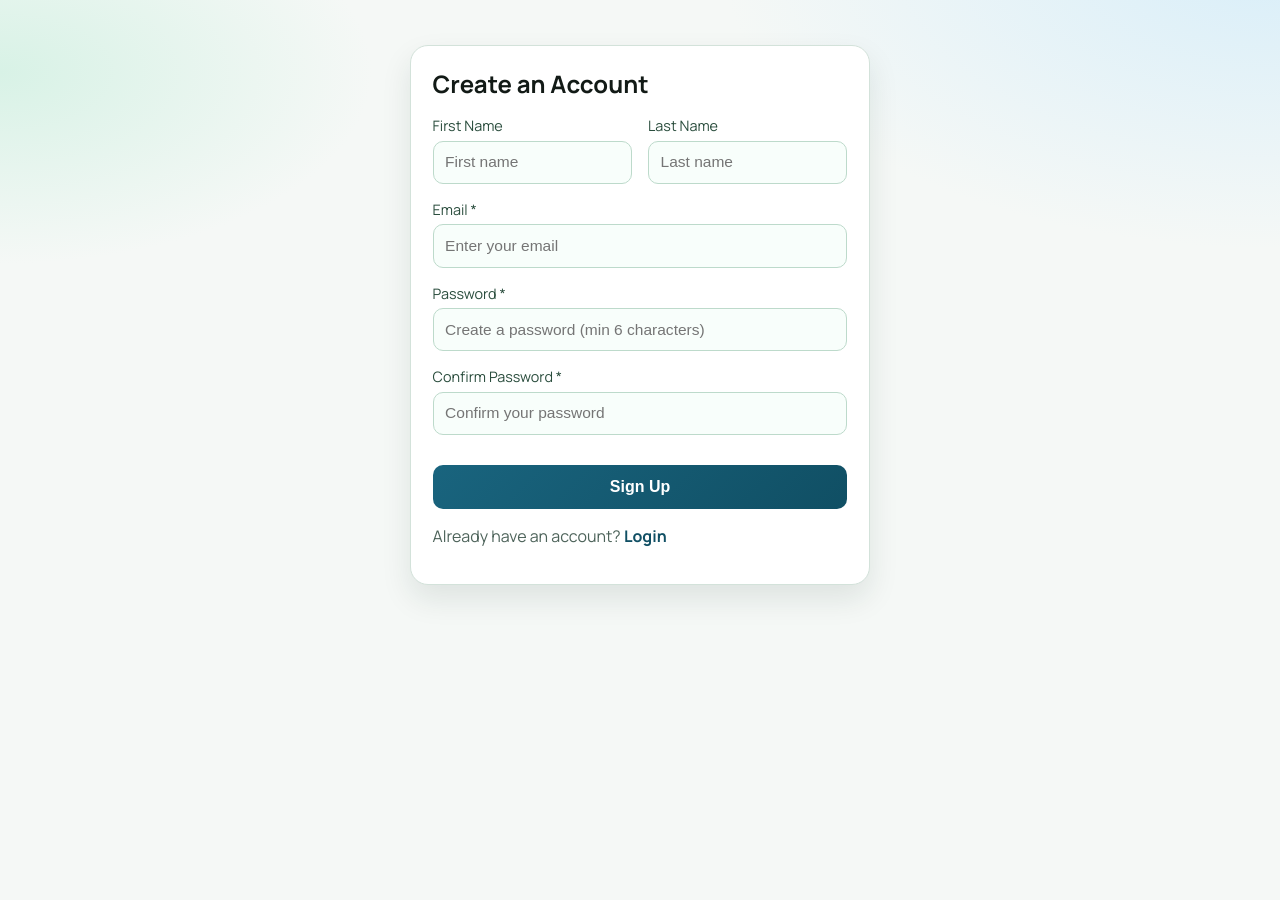
Test: Integration Tests - Signup Flow › should validate password length locally
Type "test@example.com" into the field with test id "email-input".
click(640, 246); type("test@example.com")  # box [433,224,847,268]
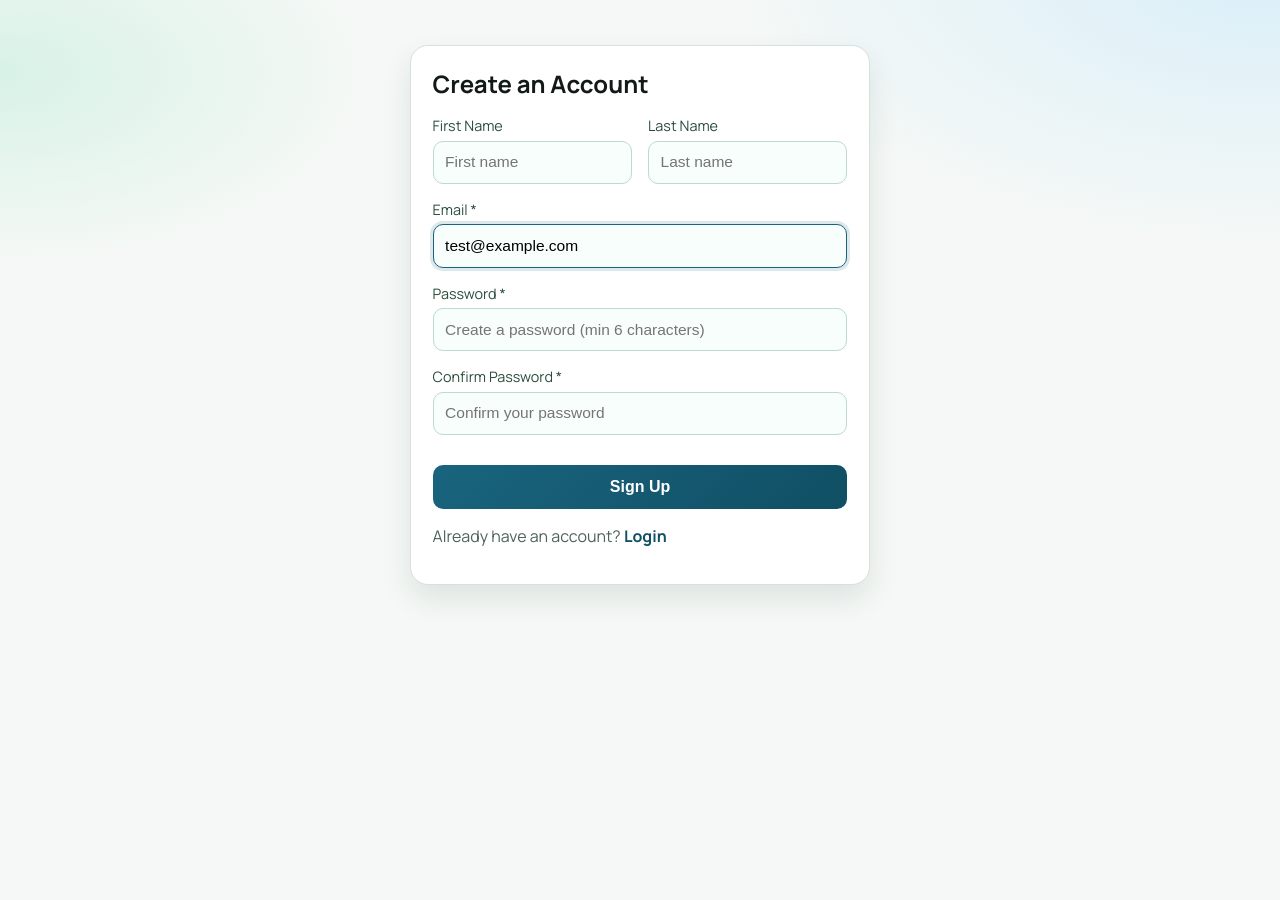
Type "12345" into the password field with test id "password-input".
click(640, 330); type("12345")  # box [433,308,847,351]
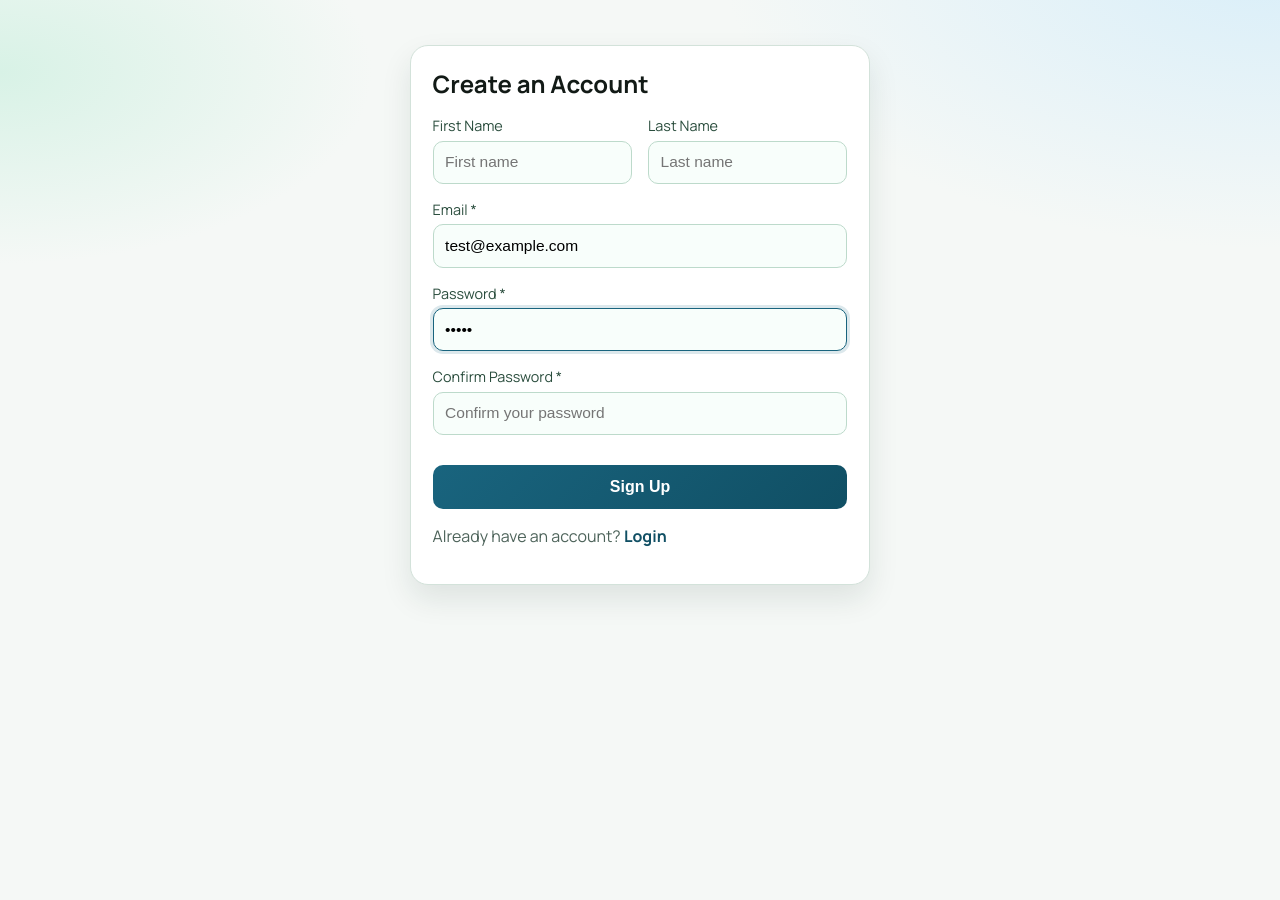
Type "12345" into the password field with test id "confirm-password-input".
click(640, 413); type("12345")  # box [433,392,847,435]
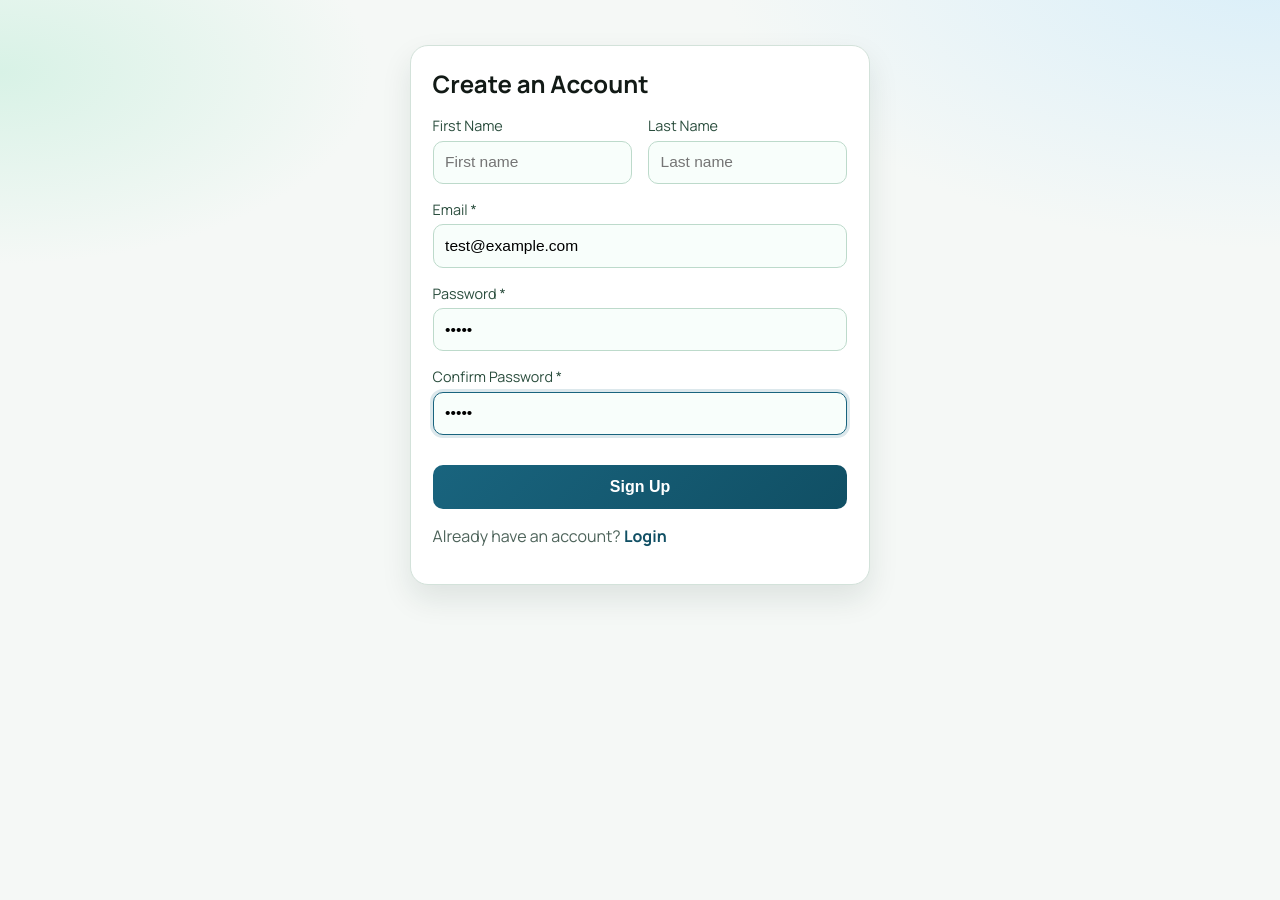
Click the button with test id "signup-button".
click(640, 487)  # box [433,465,847,509]
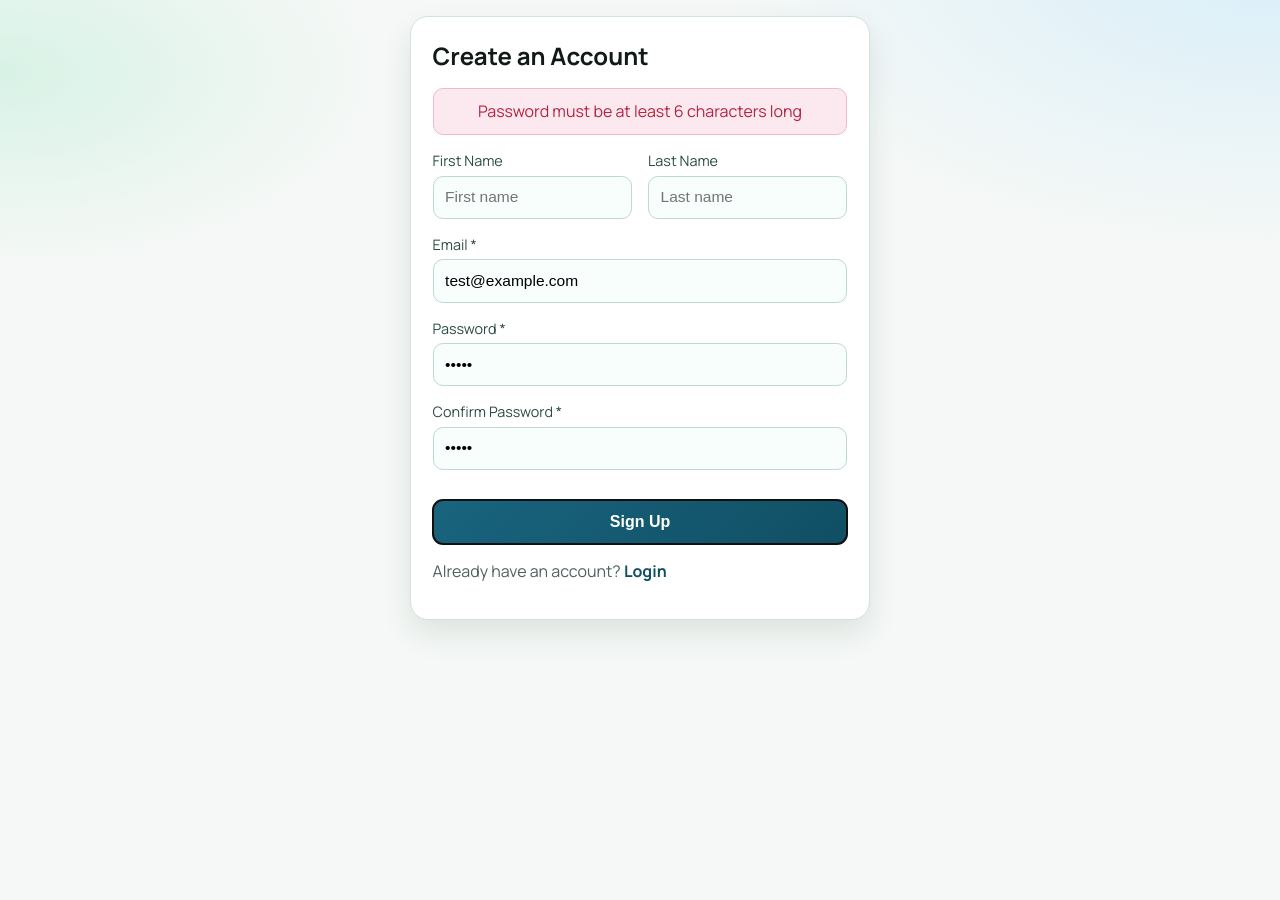
Result: the message reads "Password must be at least 6 characters long" at [478,100,802,122]
